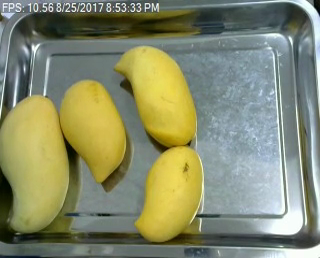Mango: (0, 96, 68, 232), (113, 45, 201, 146), (59, 79, 129, 184), (134, 146, 204, 241)
